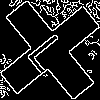L: (25, 25, 78, 76)
